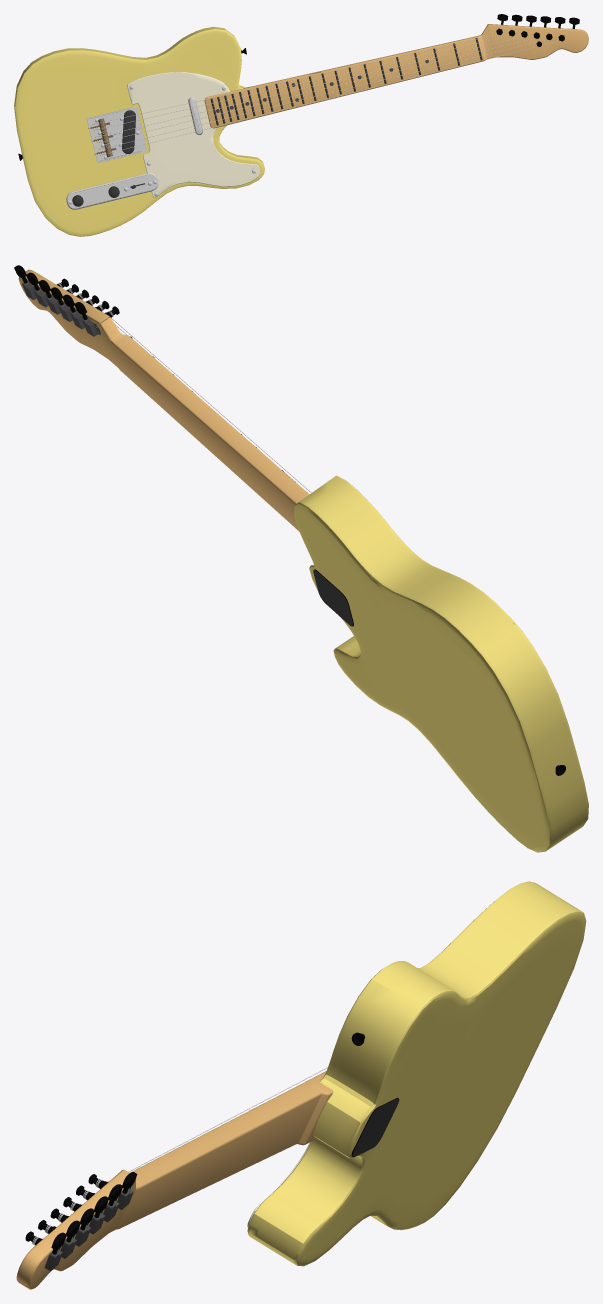
3 views of the same model, one above another, from view 1: azimuth 30°, elevation 25°; view 2: azimuth 150°, elevation 25°; view 3: azimuth 270°, elevation 25° (orthographic). The views are drawn at different scales.
Parts seen in each view (by area): view 1: ギター; view 2: ギター; view 3: ギター.
Boxes of the visible parts, x1,y1,x2,y2 form: ギター: (14, 14, 588, 236); ギター: (14, 265, 588, 852); ギター: (16, 881, 586, 1289).
Size of the model in its own units: 94.9 by 38.33 by 51.81.
